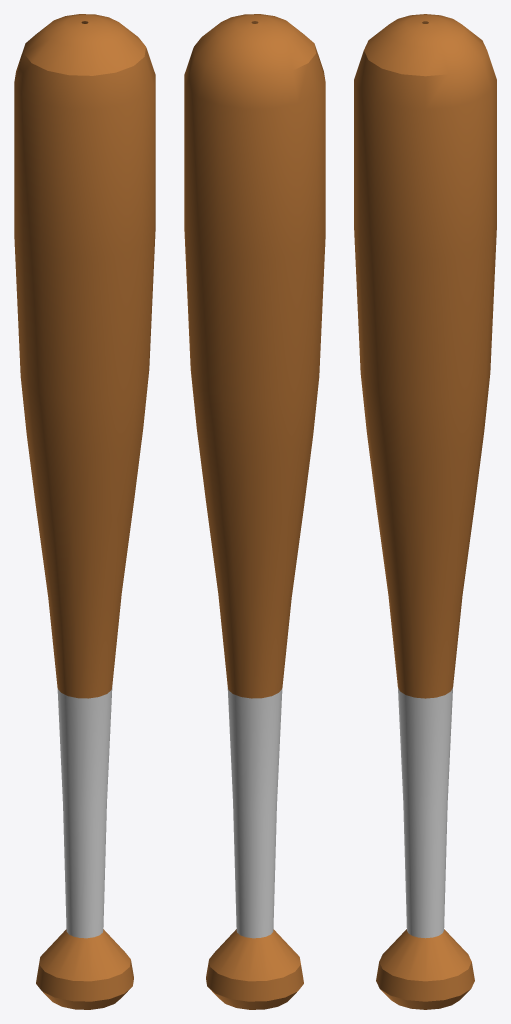
The model's file is baseballbat.fbx.
The picture shows the model from 3 angles, left to right: view 1: azimuth 30°, elevation 25°; view 2: azimuth 150°, elevation 25°; view 3: azimuth 270°, elevation 25°; orthographic projection.
Visible parts, largest first — view 1: Circle.005; view 2: Circle.005; view 3: Circle.005.
Part boxes in pixels (left/top/right/bottom): Circle.005: left=14, top=14, right=155, bottom=1009; Circle.005: left=184, top=14, right=325, bottom=1009; Circle.005: left=354, top=14, right=496, bottom=1009.
Bounding box in the file's own units: 9.94 × 74.74 × 9.94.
